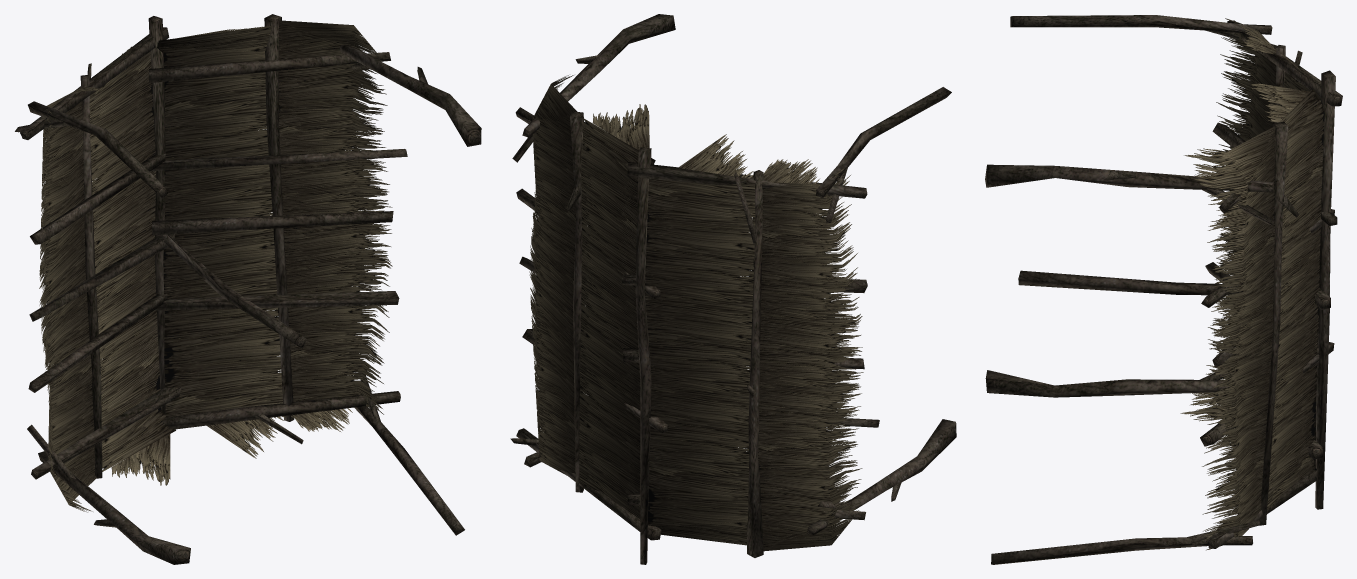
The model's file is MEP_Roof_02.fbx.
3 renders of one model, left to right at view 1: azimuth 30°, elevation 25°; view 2: azimuth 150°, elevation 25°; view 3: azimuth 270°, elevation 25°, orthographic. The views are drawn at different scales.
Visible parts, largest first — view 1: MEP_Roof_02; view 2: MEP_Roof_02; view 3: MEP_Roof_02.
Part boxes in pixels (box(x1,y1,x2,y2)): MEP_Roof_02: box(15, 14, 481, 564); MEP_Roof_02: box(510, 14, 956, 564); MEP_Roof_02: box(985, 15, 1342, 564).
Size of the model in its own units: 5.38 by 6.05 by 4.45.
